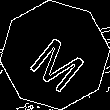M_NE: (21, 21, 89, 89)
